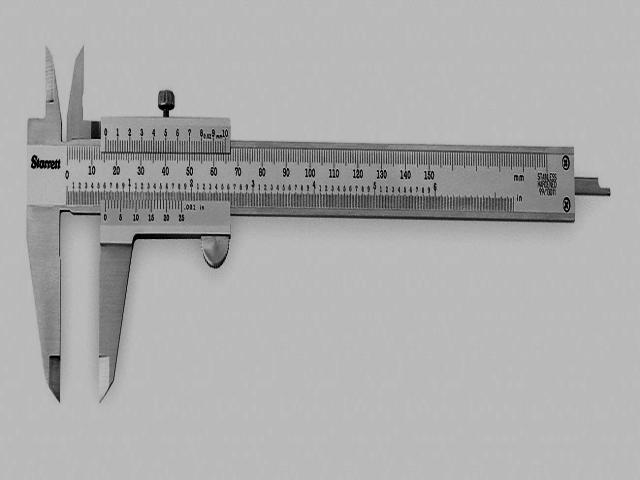Calipers: (26, 49, 609, 405)
